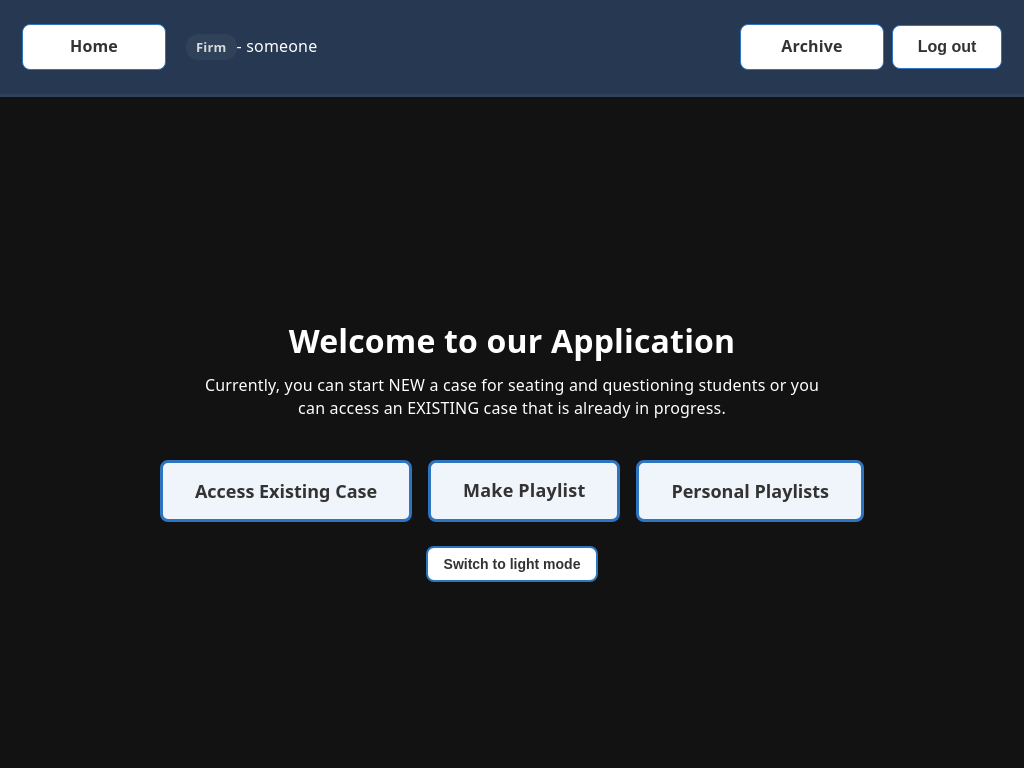
DashboardScreen playlist edit and delete (spec 022) › shows a member the questions without Edit or Delete
This screenshot has width=1024, height=768.
Click the button "Personal Playlists": point(750, 491) 636,460 -> 864,522
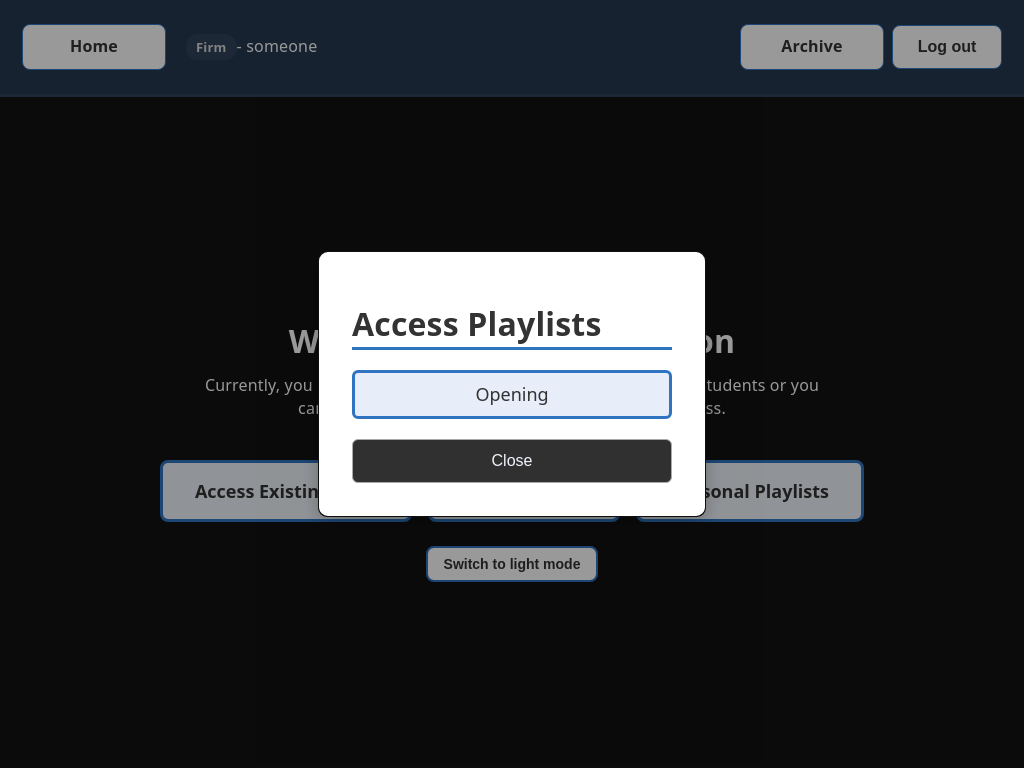
Click the button "Opening": point(512, 394) 352,370 -> 672,419
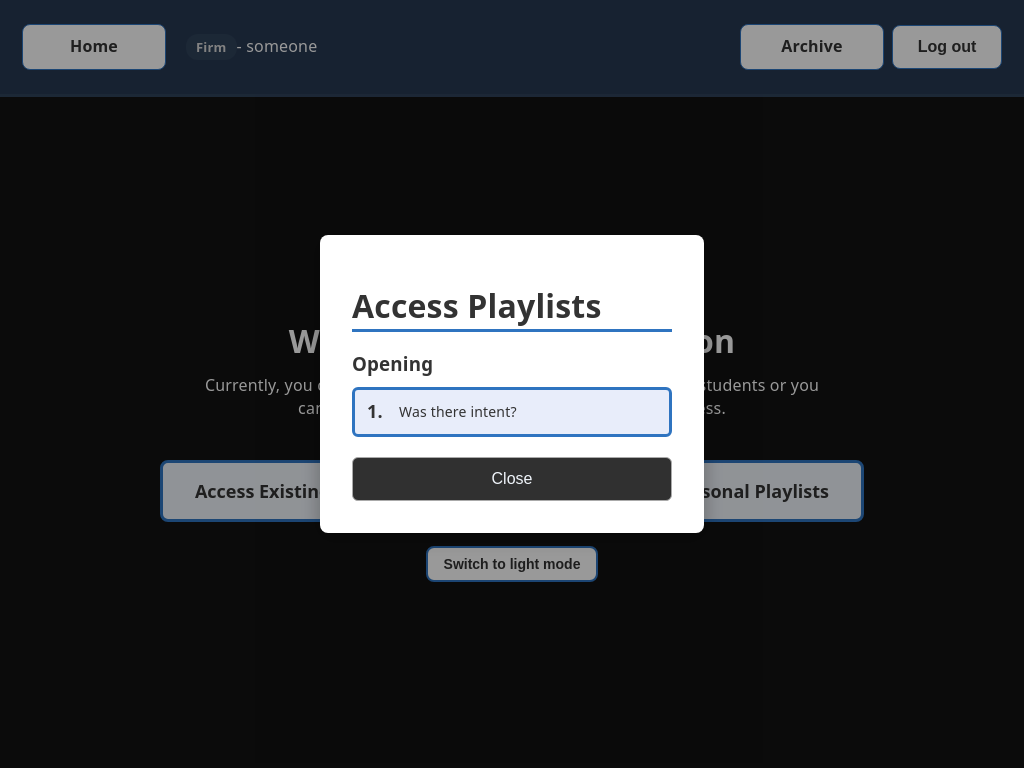
Now the text "Was there intent?" is shown, box 399,402 -> 517,421
